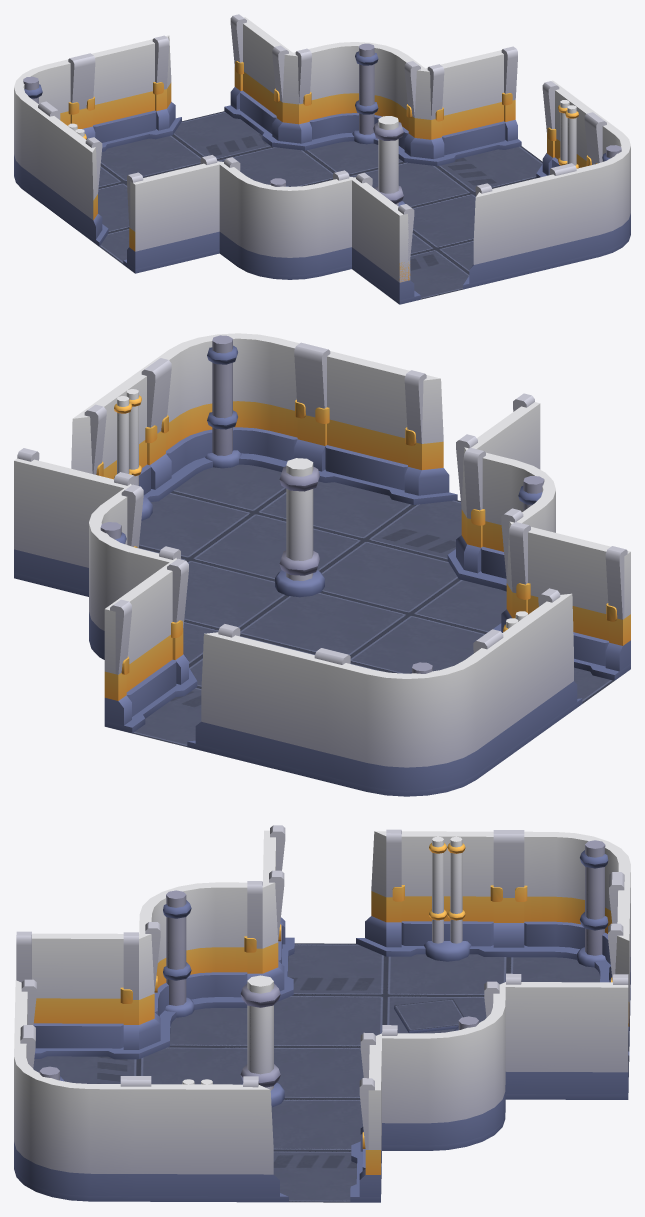
File: room-large-variation.001_lev4.glb
3 renders of one model, top to bottom at view 1: azimuth 30°, elevation 25°; view 2: azimuth 150°, elevation 25°; view 3: azimuth 270°, elevation 25°, orthographic. The views are drawn at different scales.
Visible parts, largest first — view 1: room-large-variation.001_lev4; view 2: room-large-variation.001_lev4; view 3: room-large-variation.001_lev4.
Part boxes in pixels (x1,y1,x2,y2): room-large-variation.001_lev4: (14,14,630,304); room-large-variation.001_lev4: (14,333,630,796); room-large-variation.001_lev4: (14,825,630,1202).
Size of the model in its own units: 60.11 by 12.75 by 60.41.
Materials: 1 (1 with a texture image).
